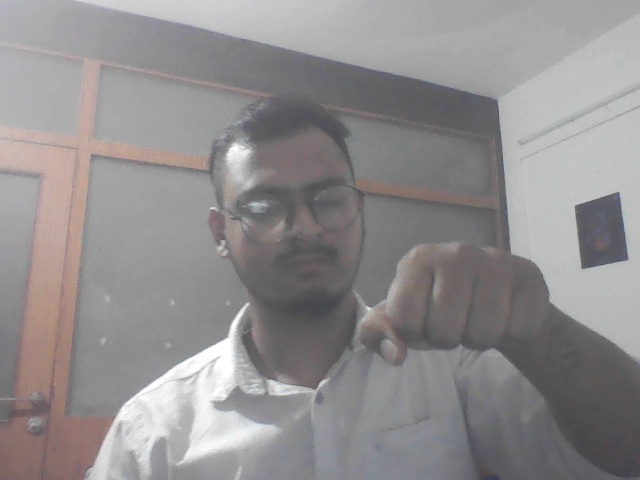YES: (353, 236, 563, 374)
